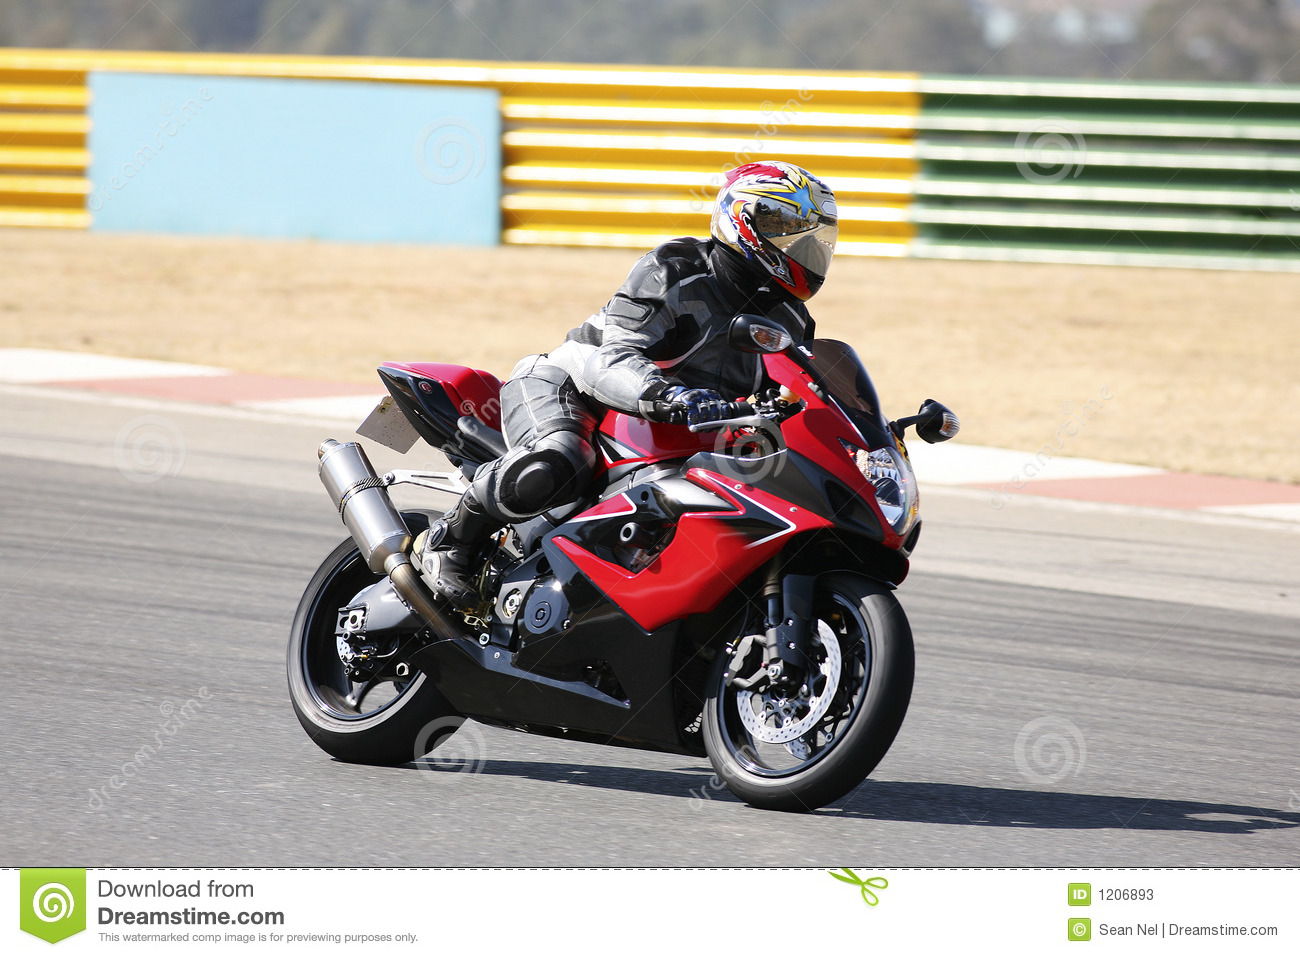helmet: (717, 166, 845, 291)
